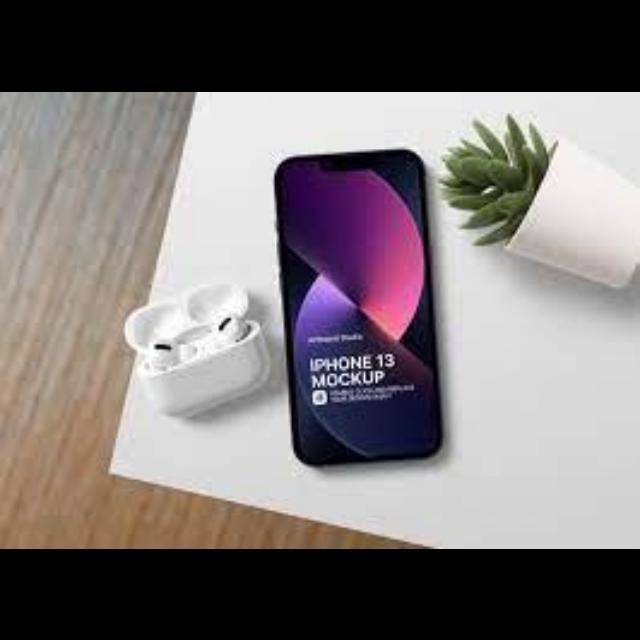PhoneUse: (269, 150, 439, 460)
